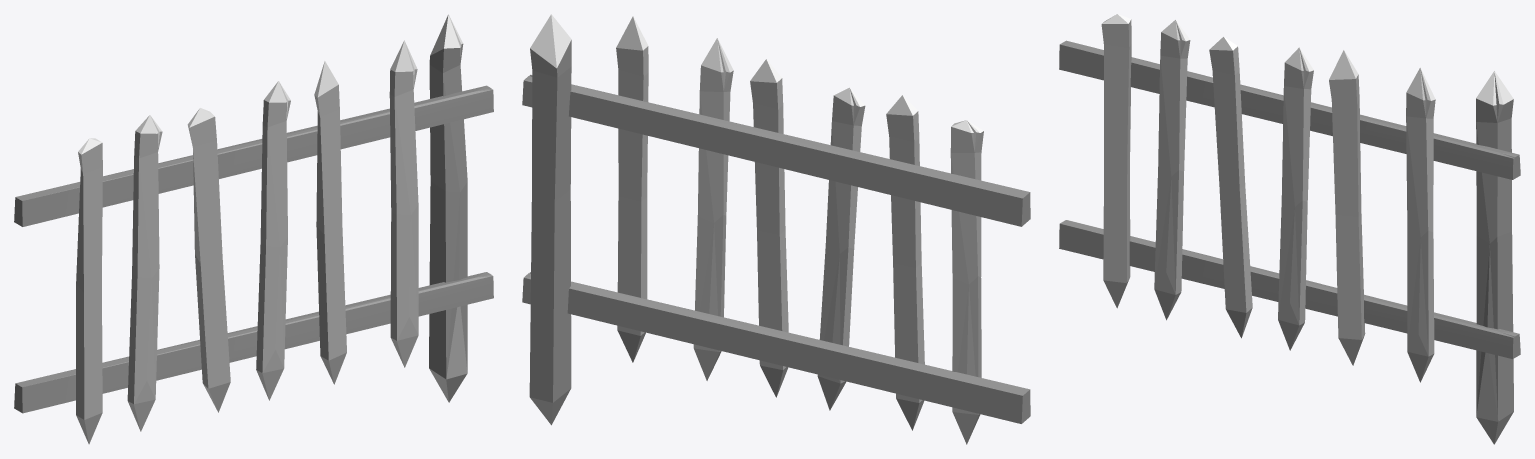
Rendered from PT_Modular_Fence_Wood_02.glb.
The picture shows the model from 3 angles, left to right: view 1: azimuth 30°, elevation 25°; view 2: azimuth 150°, elevation 25°; view 3: azimuth 330°, elevation 25°; orthographic projection. The views are drawn at different scales.
Visible parts, largest first — view 1: PT_Modular_Fence_Wood_02; view 2: PT_Modular_Fence_Wood_02; view 3: PT_Modular_Fence_Wood_02.
Boxes of the visible parts, left/top/right/bottom form: PT_Modular_Fence_Wood_02: left=14, top=14, right=493, bottom=444; PT_Modular_Fence_Wood_02: left=522, top=14, right=1030, bottom=444; PT_Modular_Fence_Wood_02: left=1059, top=14, right=1520, bottom=444.
Bounding box in the file's own units: 2.2 × 1.74 × 0.245.
1 material, 1 textured.
